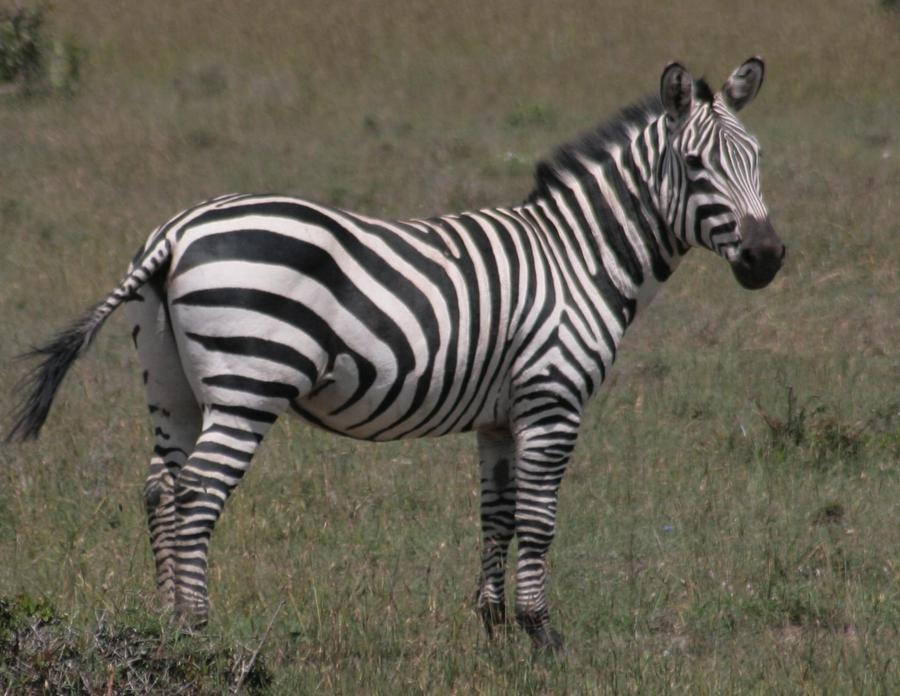zebra_plains: (154, 160, 632, 467)
